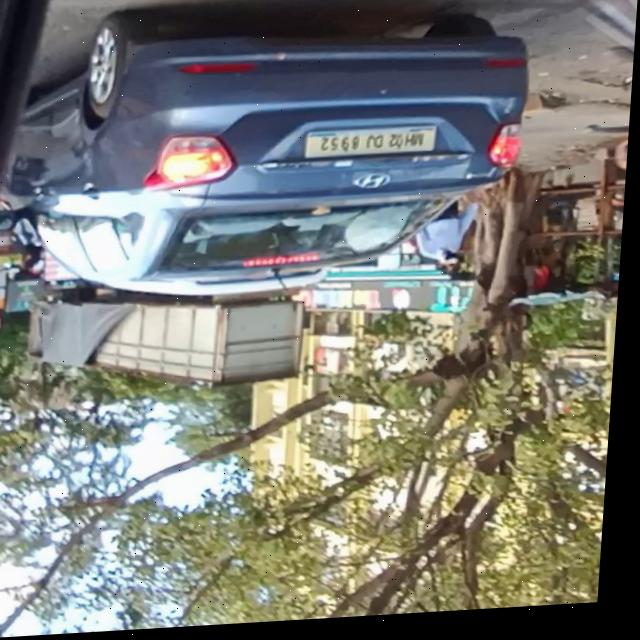plate: (306, 130, 441, 165)
